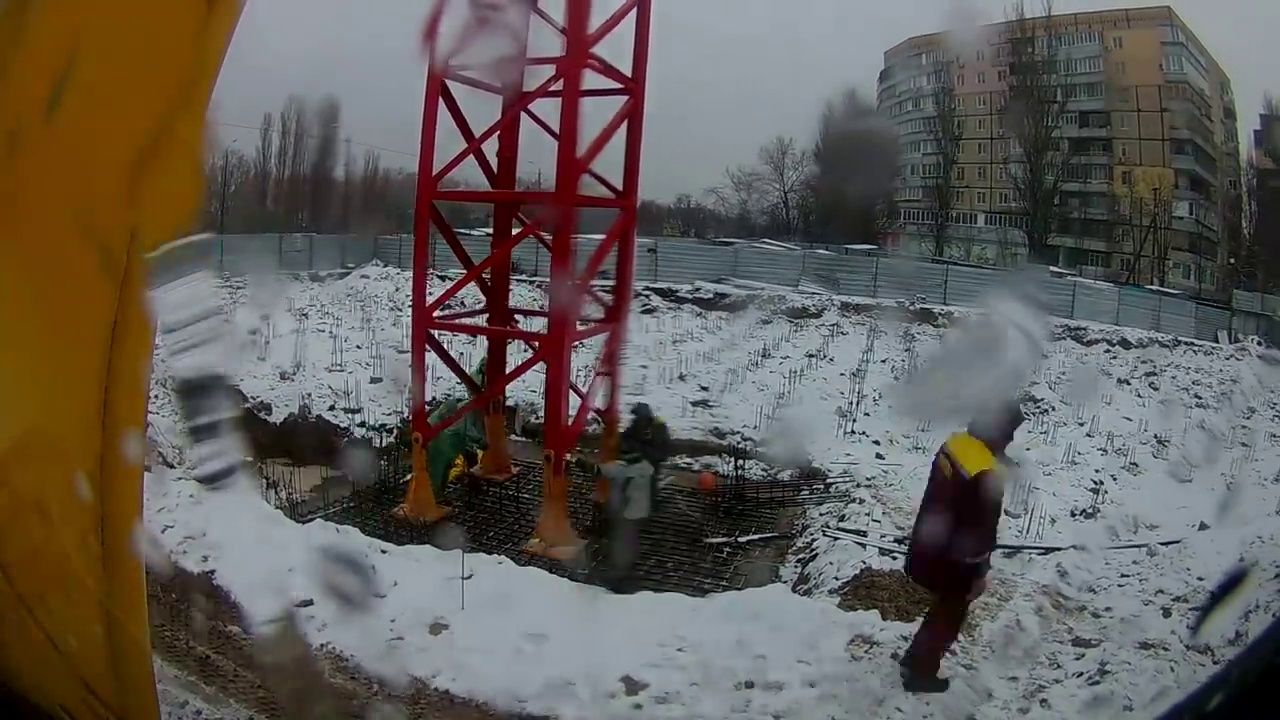helmet: (696, 469, 718, 492)
helmet-off: (961, 400, 1025, 457)
person: (887, 399, 1025, 693), (571, 445, 655, 575), (620, 402, 674, 524), (427, 397, 483, 497)
